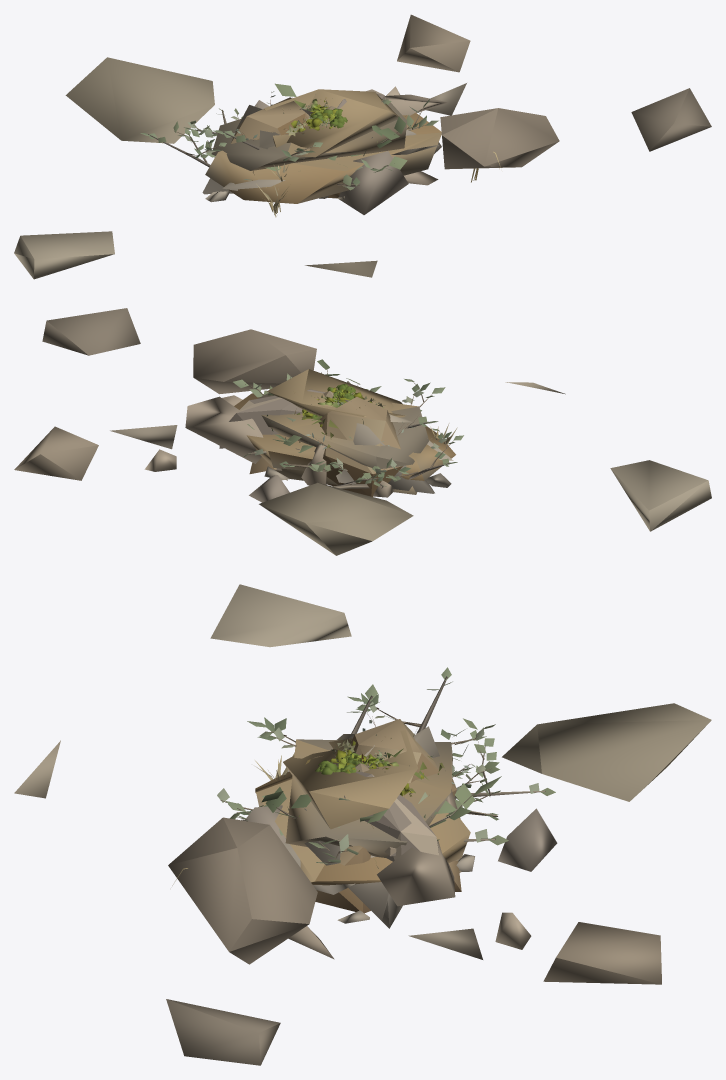
The model's file is route-volume.glb.
3 views of the same model, one above another, from view 1: azimuth 30°, elevation 25°; view 2: azimuth 150°, elevation 25°; view 3: azimuth 270°, elevation 25° (orthographic). The views are drawn at different scales.
Visible parts, largest first — view 1: volume-21, volume-11, volume-19, volume-9, volume-10, volume-28, volume-26, volume-4; view 2: volume-21, volume-11, volume-19, volume-9, volume-10, volume-27, volume-3, volume-28, volume-4; view 3: volume-21, volume-11, volume-19, volume-9, volume-10, volume-27, volume-28, volume-26, volume-4.
Boxes of the visible parts, left/top/right/bottom form: volume-21: left=14, top=14, right=711, bottom=279; volume-11: left=205, top=89, right=441, bottom=203; volume-19: left=140, top=86, right=500, bottom=214; volume-9: left=231, top=97, right=410, bottom=198; volume-10: left=202, top=105, right=438, bottom=194; volume-28: left=213, top=99, right=438, bottom=190; volume-26: left=265, top=83, right=407, bottom=172; volume-4: left=205, top=91, right=441, bottom=217; volume-21: left=14, top=308, right=711, bottom=555; volume-11: left=234, top=369, right=455, bottom=494; volume-19: left=144, top=381, right=463, bottom=502; volume-9: left=249, top=397, right=402, bottom=496; volume-10: left=299, top=399, right=453, bottom=493; volume-27: left=219, top=389, right=325, bottom=448; volume-3: left=267, top=373, right=431, bottom=497; volume-28: left=233, top=379, right=445, bottom=457; volume-4: left=264, top=416, right=457, bottom=487; volume-21: left=14, top=584, right=711, bottom=1065; volume-11: left=255, top=730, right=470, bottom=885; volume-19: left=172, top=667, right=557, bottom=959; volume-9: left=315, top=719, right=461, bottom=913; volume-10: left=284, top=726, right=456, bottom=928; volume-27: left=355, top=771, right=438, bottom=861; volume-28: left=217, top=684, right=508, bottom=863; volume-26: left=230, top=776, right=501, bottom=835; volume-4: left=255, top=701, right=475, bottom=923.
Size of the model in its own units: 10.09 by 1 by 6.48.
